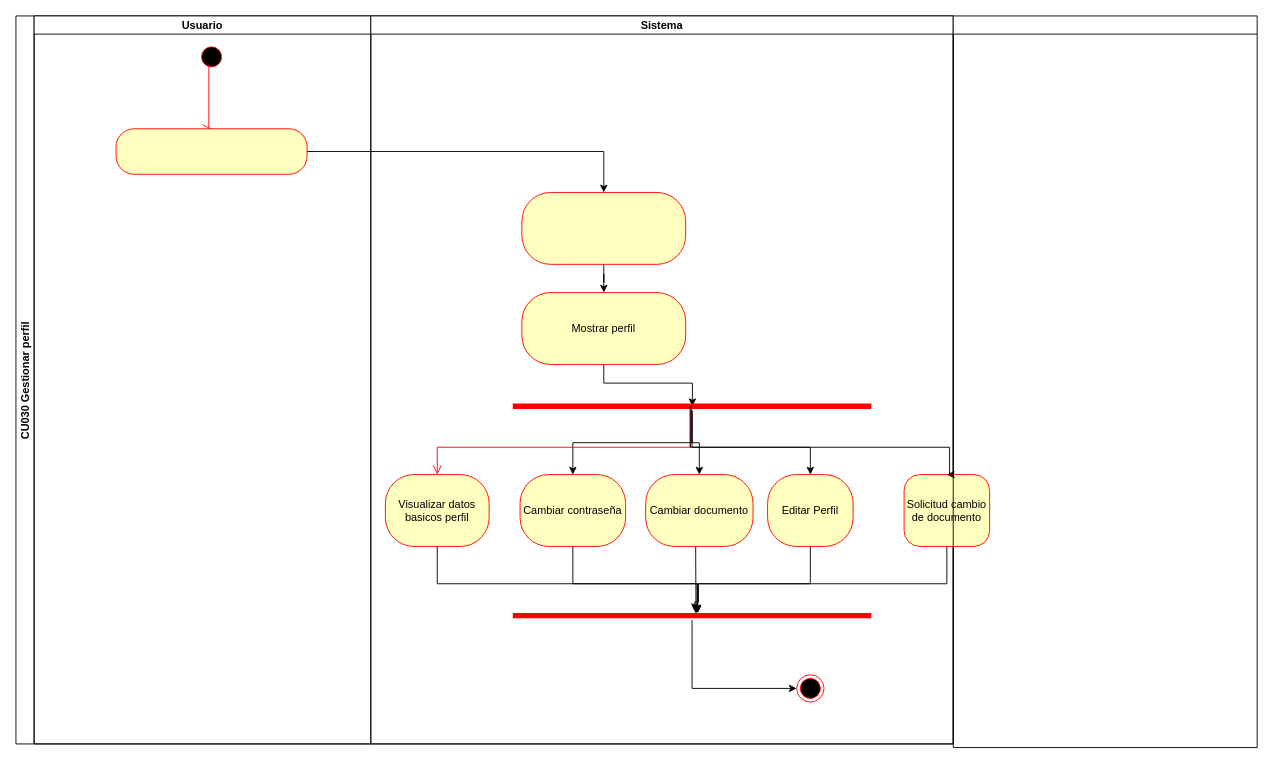
The diagram is 1273 pixels wide and 763 high, and some of its shapes have lost their labels. The shapes that lost their labels are listed below. From the top down, each one's centre as x and y in pixels, then its label:
point 211,151: Acceder al apartado "Perfil"
point 603,228: Mostrar apartado
point 1104,381: Cliente
